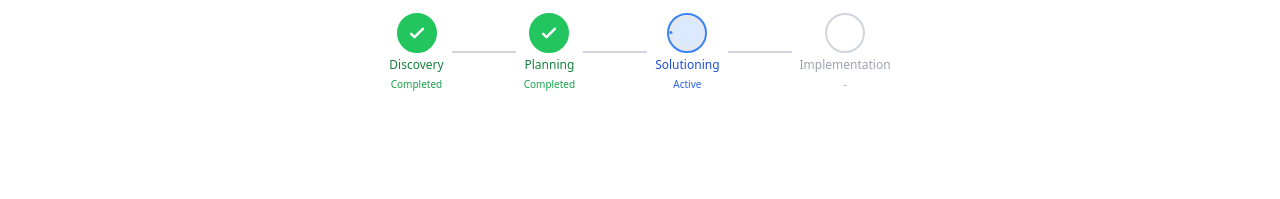
Test case: WorkflowVisualizer › phase interactions › expands panel when clicking completed phase
The image size is (1280, 199).
# Click on Discovery phase (completed)
Click the button named "discovery phase" at (416,32), box [396,12,436,52]
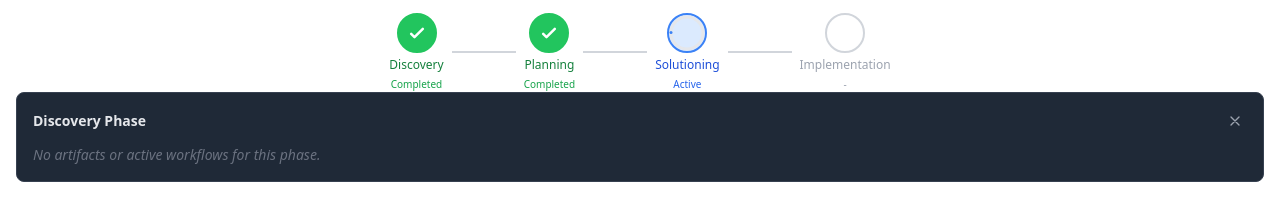
Expected: the element named "discovery phase details" is shown, [16,92,1264,182]
